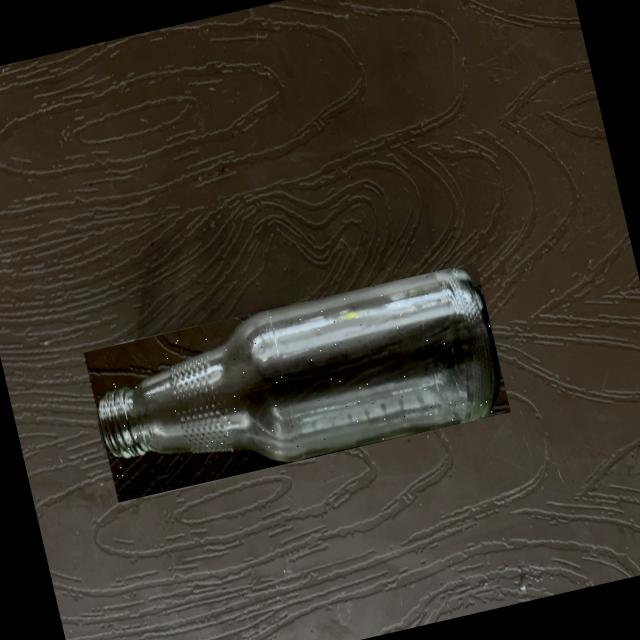Glass_Bottle: (99, 269, 499, 461)
